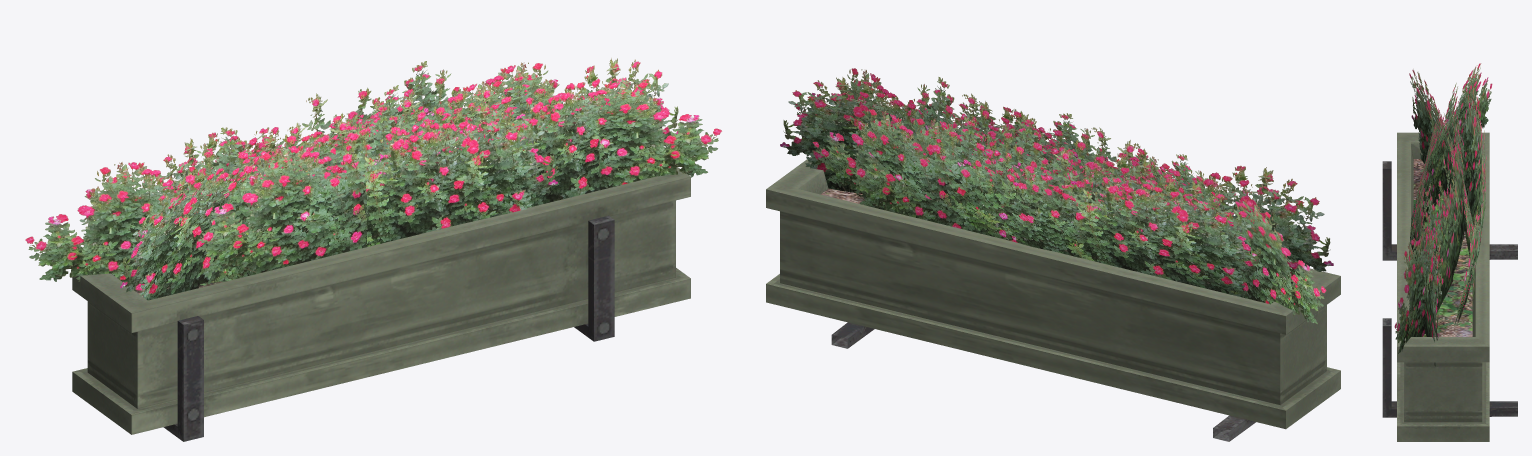
The model's file is Balcony_Pot_03.fbx.
3 views of the same model, side by side, from view 1: azimuth 30°, elevation 25°; view 2: azimuth 150°, elevation 25°; view 3: azimuth 270°, elevation 25° (orthographic). The views are drawn at different scales.
Visible parts, largest first — view 1: Balcony_Pot_03_LOD0; view 2: Balcony_Pot_03_LOD0; view 3: Balcony_Pot_03_LOD0.
Part boxes in pixels (x1,y1,x2,y2): Balcony_Pot_03_LOD0: (25,58,721,441); Balcony_Pot_03_LOD0: (766,68,1340,441); Balcony_Pot_03_LOD0: (1382,63,1517,441).
Size of what is drawn, in the model's own units: 106 by 42.4 by 25.59.
